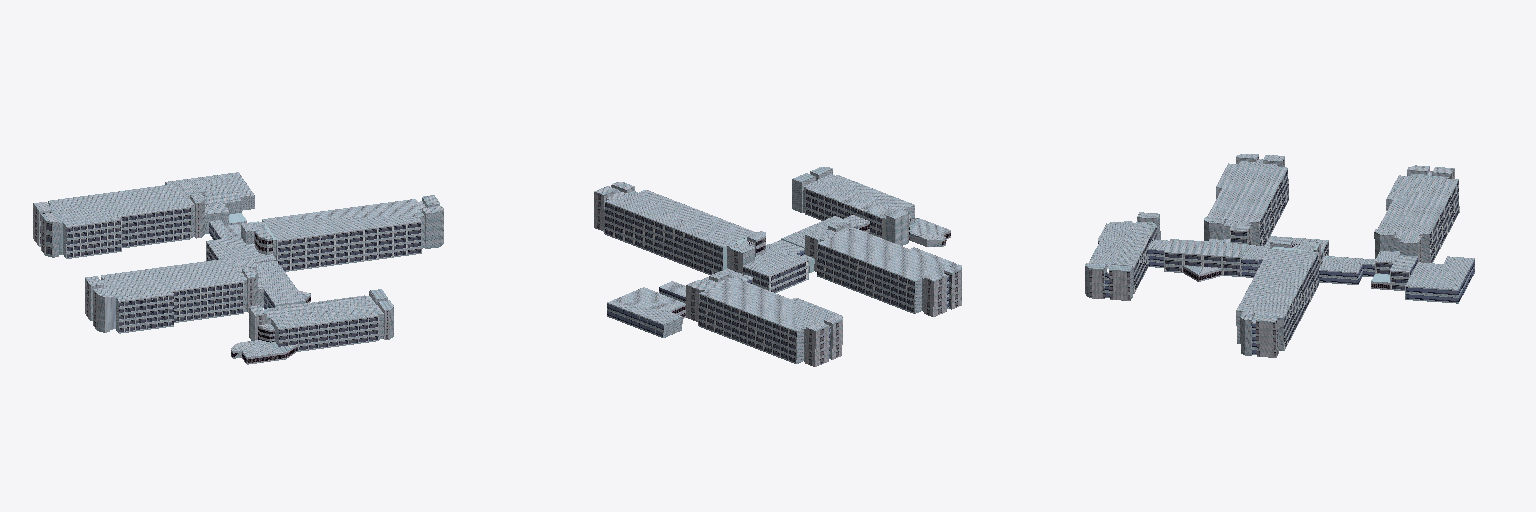
The picture shows the model from 3 angles: view 1: azimuth 30°, elevation 25°; view 2: azimuth 150°, elevation 25°; view 3: azimuth 270°, elevation 25°; orthographic projection.
Visible parts, largest first — view 1: VMtl1758, VMtl1727, VMtl1440, VMtl1509, VMtl1436; view 2: VMtl1758, VMtl1727, VMtl1509, VMtl1440, VMtl1725; view 3: VMtl1758, VMtl1727, VMtl1725, VMtl1509, VMtl1440.
Boxes of the visible parts, x1=… form: VMtl1758: x1=48, y1=172, x2=443, y2=358; VMtl1727: x1=39, y1=207, x2=421, y2=351; VMtl1440: x1=34, y1=184, x2=443, y2=351; VMtl1509: x1=33, y1=202, x2=389, y2=339; VMtl1436: x1=229, y1=221, x2=310, y2=364; VMtl1758: x1=603, y1=169, x2=961, y2=363; VMtl1727: x1=604, y1=189, x2=951, y2=363; VMtl1509: x1=594, y1=192, x2=961, y2=366; VMtl1440: x1=594, y1=167, x2=961, y2=330; VMtl1725: x1=607, y1=225, x2=948, y2=358; VMtl1758: x1=1085, y1=157, x2=1474, y2=355; VMtl1727: x1=1134, y1=155, x2=1459, y2=350; VMtl1725: x1=1105, y1=249, x2=1474, y2=354; VMtl1509: x1=1089, y1=157, x2=1454, y2=357; VMtl1440: x1=1085, y1=154, x2=1454, y2=322.
Bounding box in the file's own units: 194 × 23 × 186.
Materials: 8 (6 with a texture image).